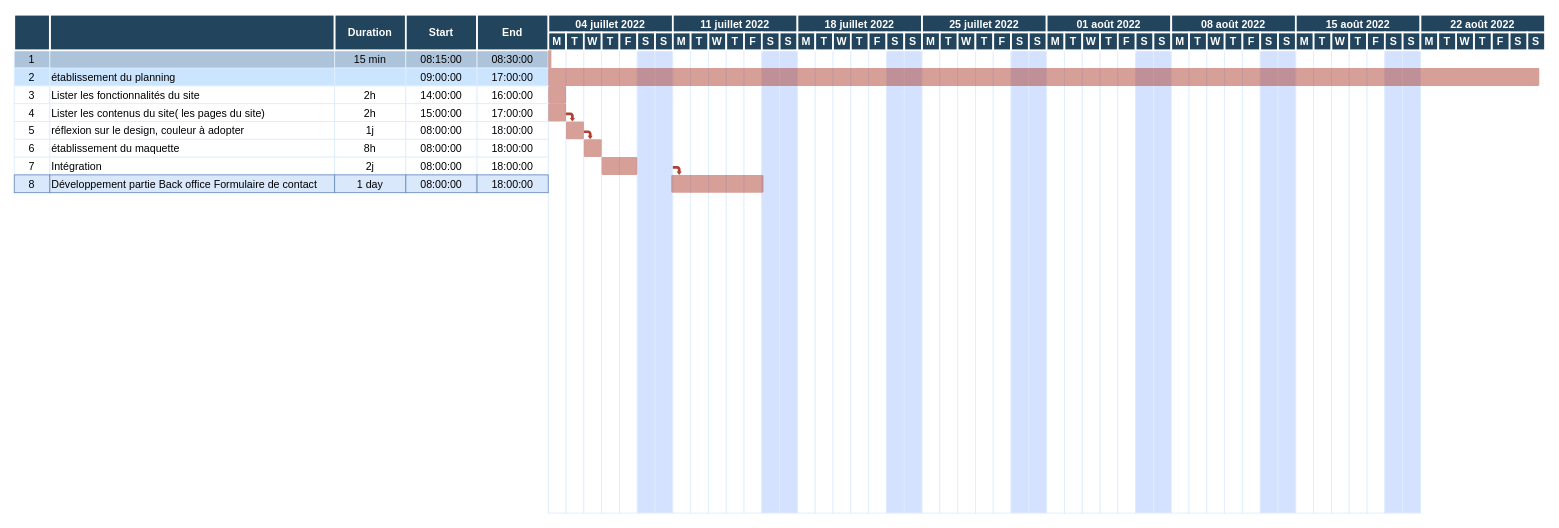
Some shapes in this 1559 by 528 pixel diagram are drawn without their labels. Here are the shapes that lost their labels. From the top down, the centre of each, then its label:
At [192,32]: "Tache à faire".
At [192,59]: "Installation des prérequis".
